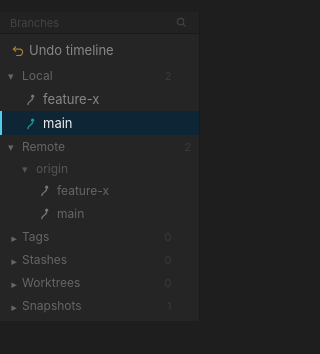
Test case: BranchPane — snapshots › shows the capture branch next to the label
Click the text "Snapshots": (52, 306) [22,298,82,313]
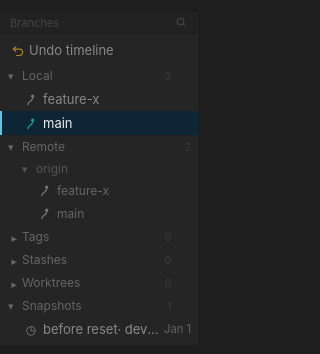
Result: the text "before reset" is shown at [43,321,117,337]
Result: the text "· develop" is shown at [117,321,159,337]
